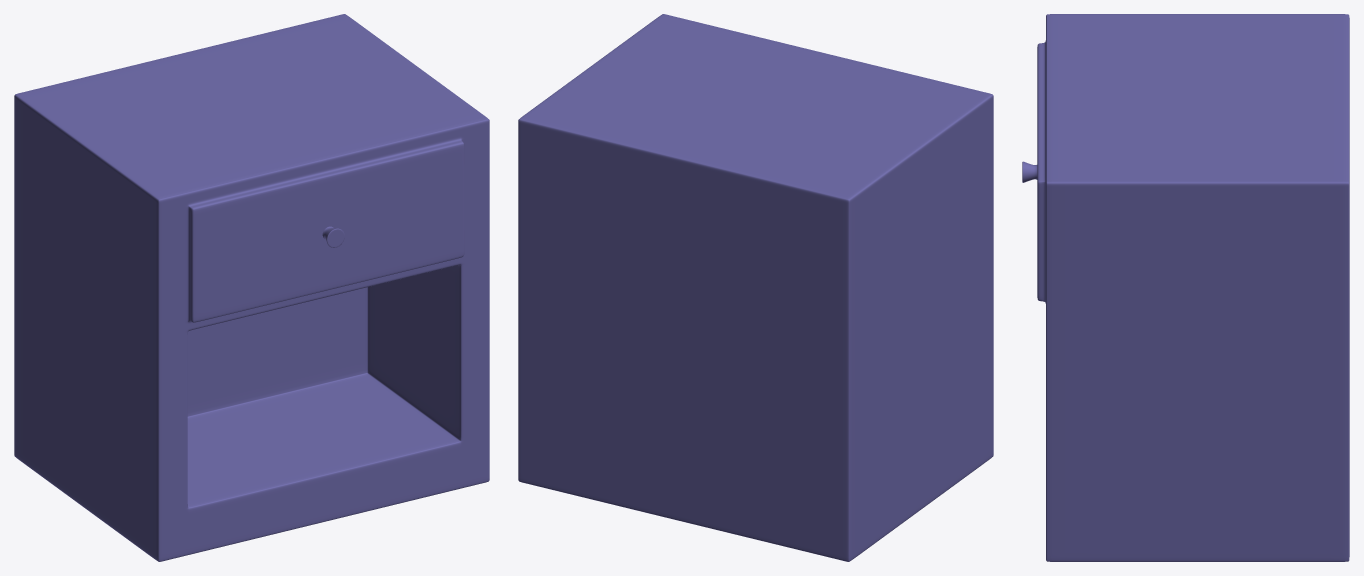
File: nightstand.fbx
The picture shows the model from 3 angles, left to right: view 1: azimuth 30°, elevation 25°; view 2: azimuth 150°, elevation 25°; view 3: azimuth 270°, elevation 25°; orthographic projection. The views are drawn at different scales.
Visible parts, largest first — view 1: nightstand; view 2: nightstand; view 3: nightstand.
Part boxes in pixels (box(x1,y1,x2,y2)): nightstand: box(14, 14, 489, 561); nightstand: box(518, 14, 993, 561); nightstand: box(1022, 14, 1349, 561).
Bounding box in the file's own units: 12.19 × 12.75 × 9.94.
